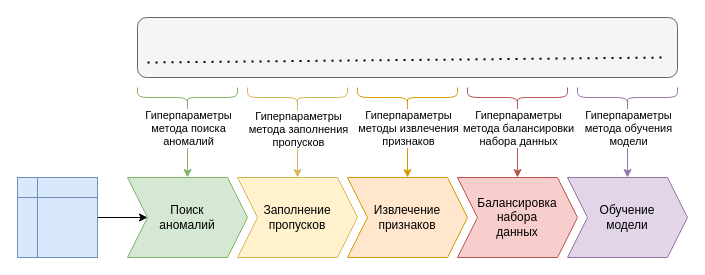
Some shapes in this 705 by 275 pixel diagram are drawn without their labels. Each missing label, with the centre of its shape:
"Линейная конфигурация гиперпараметров комбинации алгоритмов" belongs at pixel 407 47.
"Набор данных" belongs at pixel 57 217.
